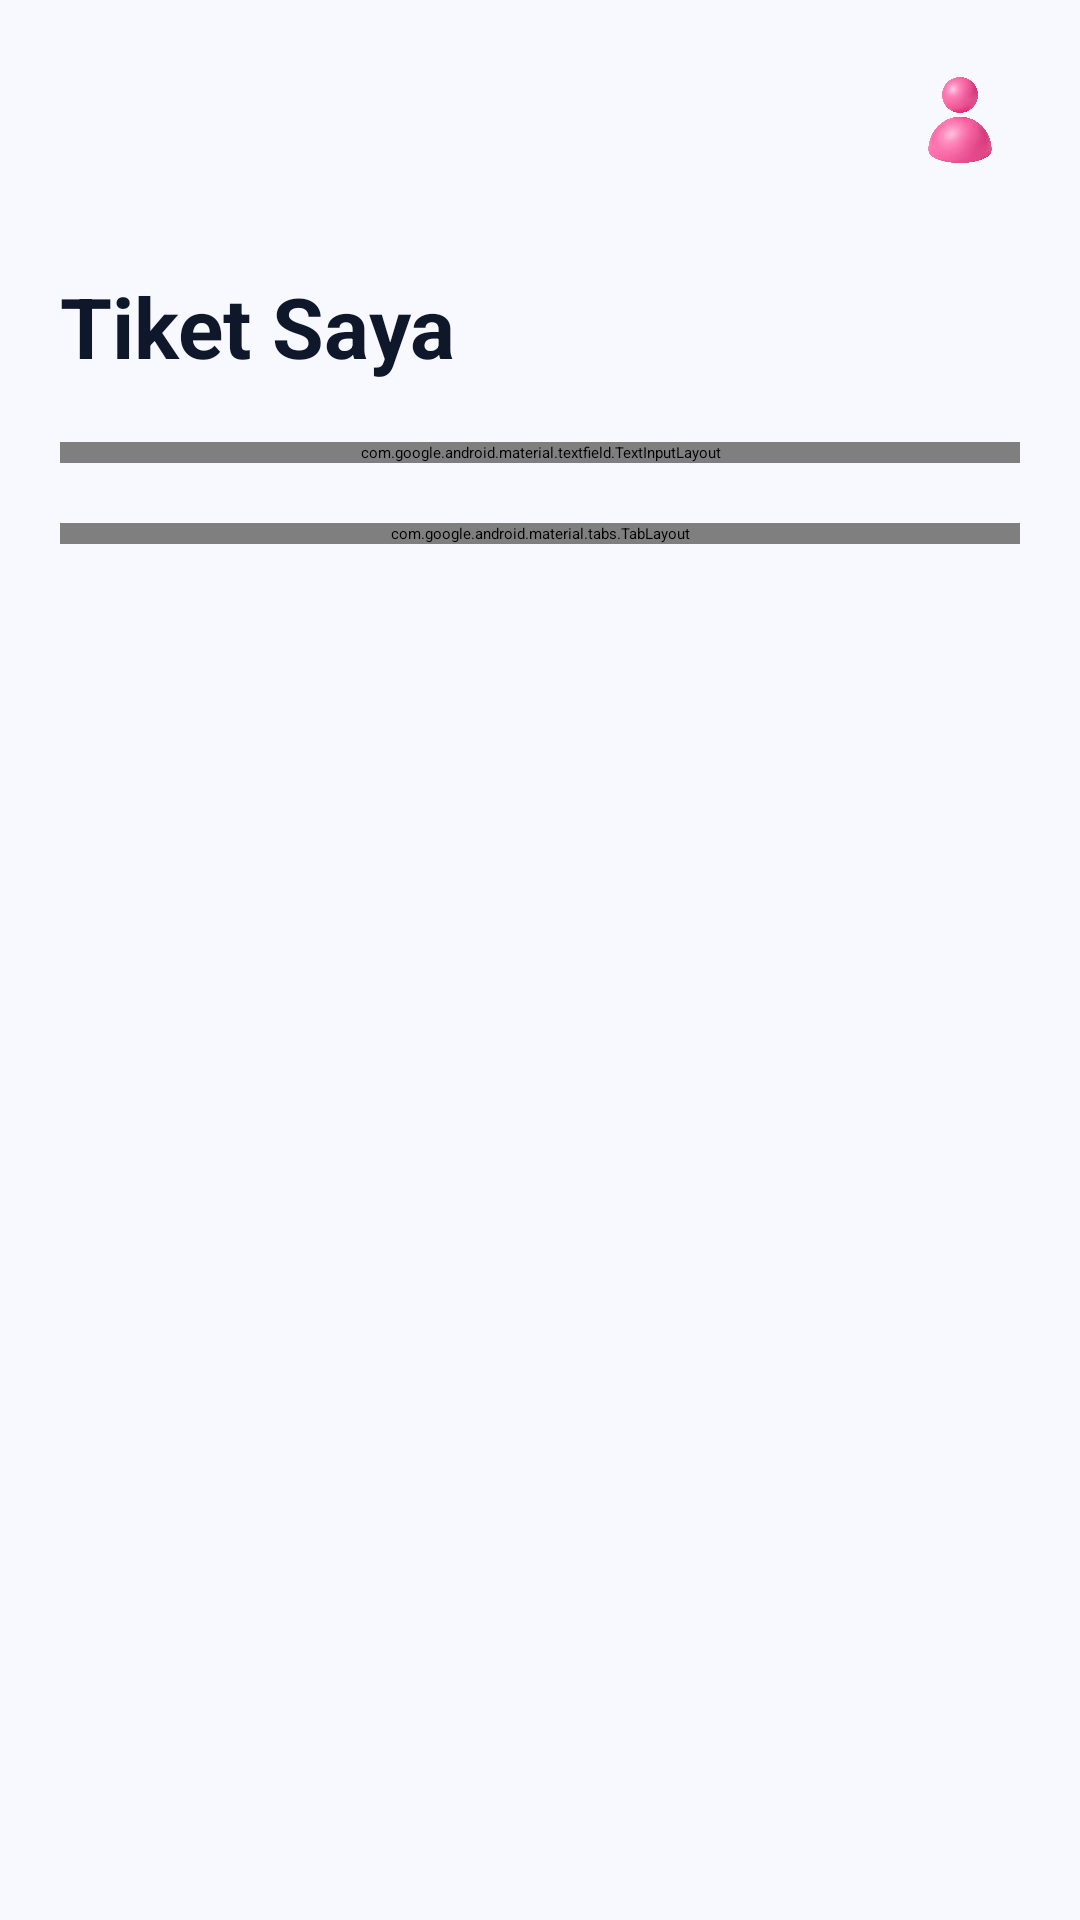

Point at icon controls on the screen. Image size 1080 x 1920, points as point (x, y).
user: point (960, 120)
